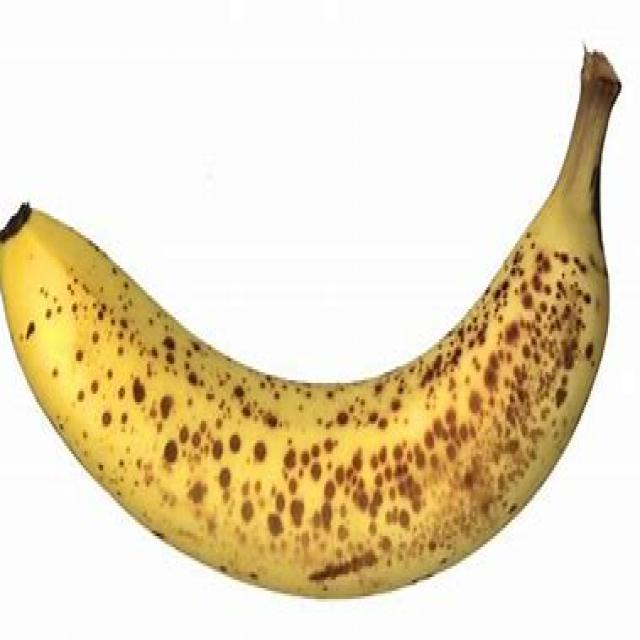Banana: (0, 50, 626, 607)
